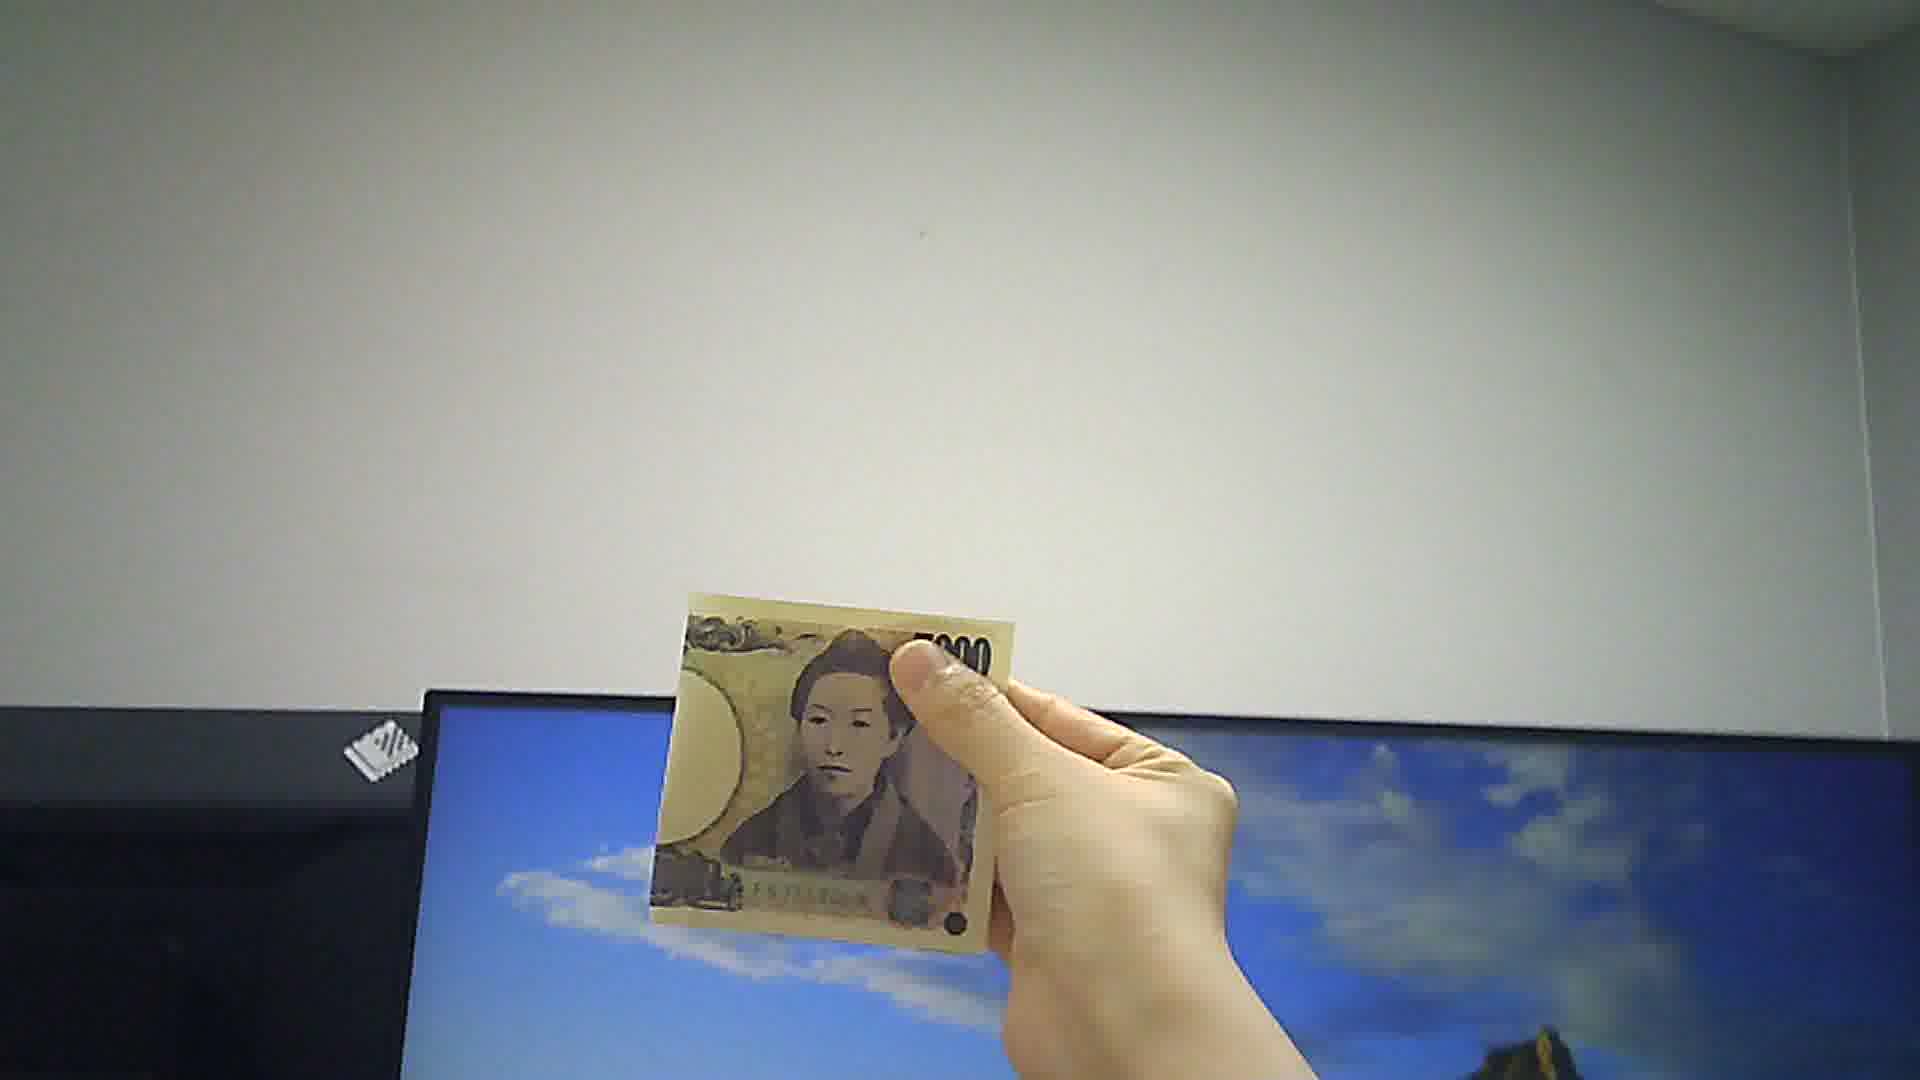5,000 Yen: (644, 578, 1025, 975)
